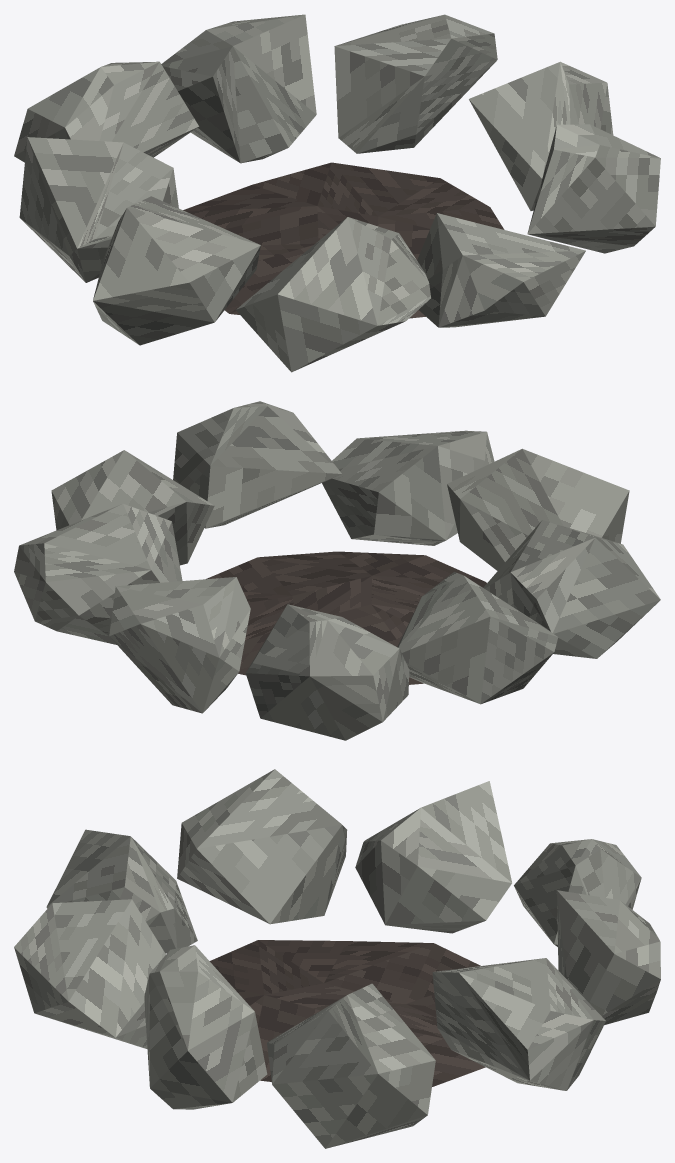
File: f_firering.glb
The picture shows the model from 3 angles, top to bottom: view 1: azimuth 30°, elevation 25°; view 2: azimuth 150°, elevation 25°; view 3: azimuth 270°, elevation 25°; orthographic projection. The views are drawn at different scales.
Parts seen in each view (by area): view 1: block_ash-bed, block_ring-stone-3, block_ring-stone-4, block_ring-stone-7, block_ring-stone-8, block_ring-stone-5, block_ring-stone-2, block_ring-stone-1, block_ring-stone-6, block_ring-stone-0; view 2: block_ring-stone-6, block_ring-stone-8, block_ring-stone-4, block_ash-bed, block_ring-stone-7, block_ring-stone-2, block_ring-stone-5, block_ring-stone-1, block_ring-stone-3, block_ring-stone-0; view 3: block_ring-stone-0, block_ring-stone-4, block_ash-bed, block_ring-stone-5, block_ring-stone-8, block_ring-stone-2, block_ring-stone-1, block_ring-stone-7, block_ring-stone-3, block_ring-stone-6.
Boxes of the visible parts, box(x1,y1,x2,y2) form: block_ash-bed: box(183, 162, 504, 318); block_ring-stone-3: box(236, 217, 430, 372); block_ring-stone-4: box(93, 196, 260, 345); block_ring-stone-7: box(161, 14, 316, 163); block_ring-stone-8: box(334, 14, 497, 153); block_ring-stone-5: box(19, 137, 178, 282); block_ring-stone-2: box(417, 213, 585, 327); block_ring-stone-1: box(527, 124, 660, 253); block_ring-stone-6: box(14, 61, 198, 162); block_ring-stone-0: box(469, 61, 613, 210); block_ring-stone-6: box(245, 604, 409, 740); block_ring-stone-8: box(14, 504, 182, 644); block_ring-stone-4: box(483, 520, 660, 658); block_ash-bed: box(206, 551, 486, 684); block_ring-stone-7: box(109, 577, 250, 713); block_ring-stone-2: box(322, 430, 494, 545); block_ring-stone-5: box(397, 572, 558, 704); block_ring-stone-1: box(173, 401, 341, 528); block_ring-stone-3: box(447, 448, 629, 570); block_ring-stone-0: box(51, 450, 214, 565); block_ring-stone-0: box(267, 983, 435, 1148); block_ring-stone-4: box(177, 769, 347, 924); block_ash-bed: box(209, 940, 485, 1086); block_ring-stone-5: box(355, 781, 511, 933); block_ring-stone-8: box(432, 958, 605, 1090); block_ring-stone-2: box(14, 899, 165, 1048); block_ring-stone-1: box(144, 945, 267, 1109); block_ring-stone-7: box(556, 890, 660, 1025); block_ring-stone-3: box(46, 829, 197, 953); block_ring-stone-6: box(514, 839, 641, 946).
Size of the model in its own units: 0.7062 by 0.1614 by 0.6697.
1 material, 1 textured.
